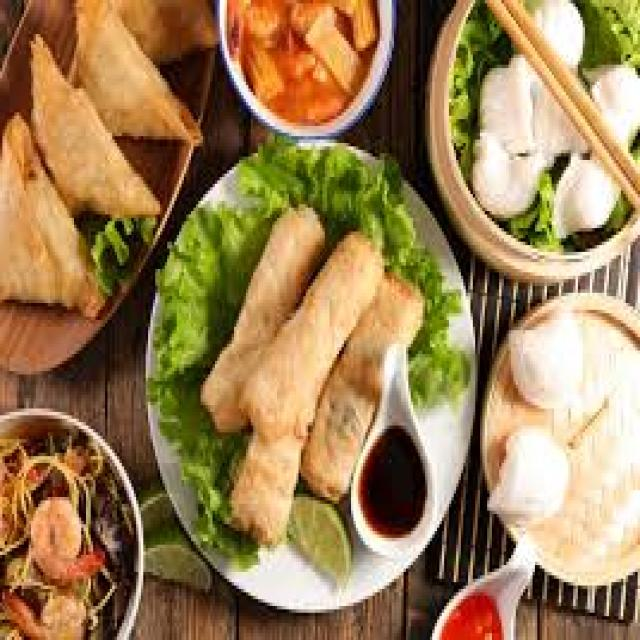Samosa: (2, 4, 210, 324)
Spring Rolls: (203, 204, 423, 538)
